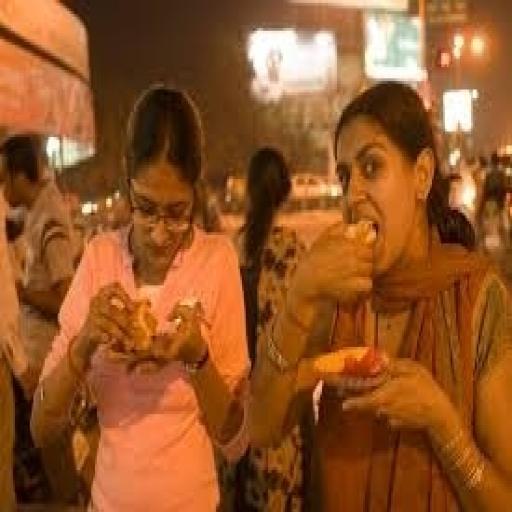eating: (246, 76, 510, 509), (28, 81, 253, 509)
